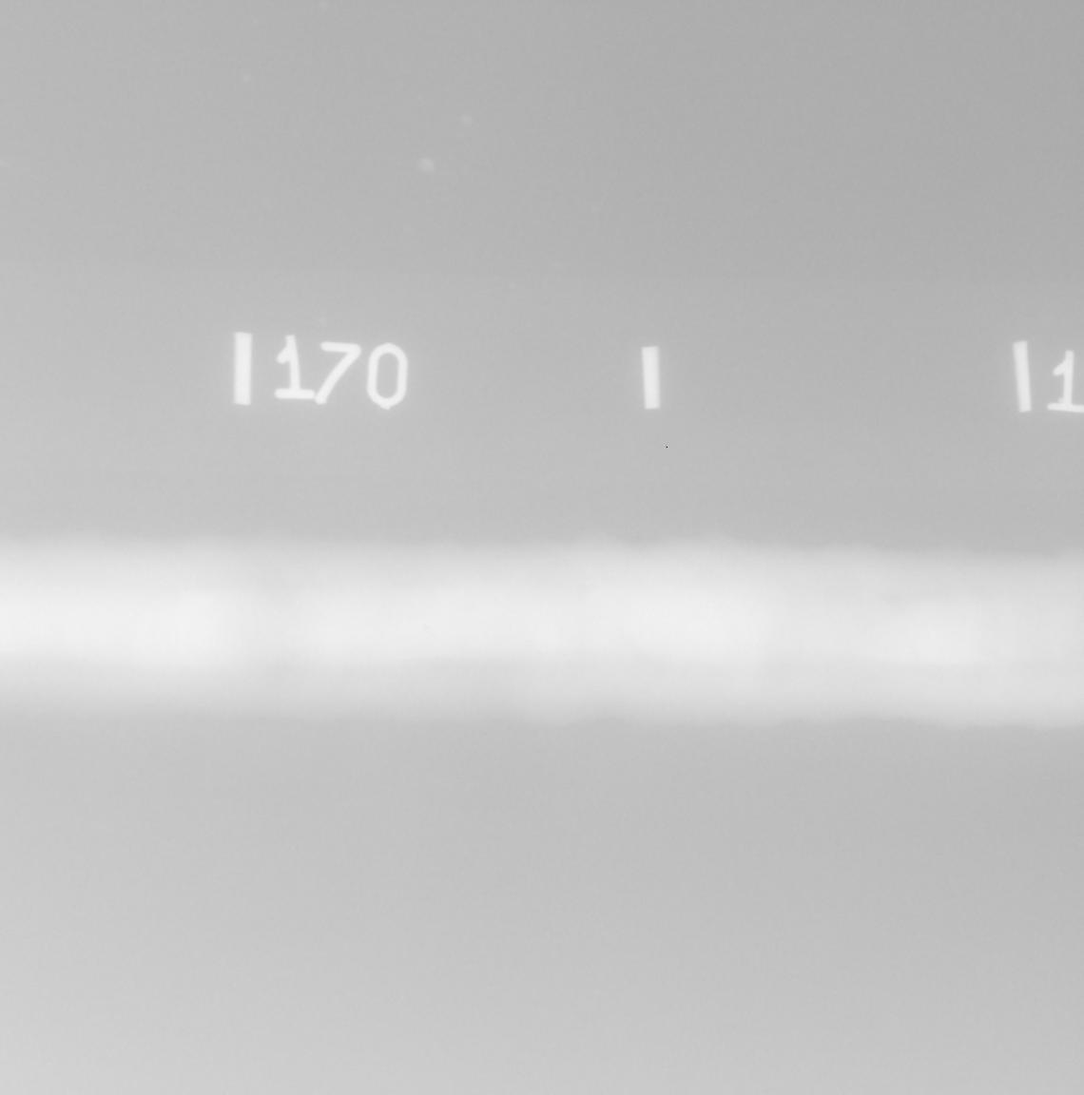Pore/Porosity: (423, 626, 429, 630)
